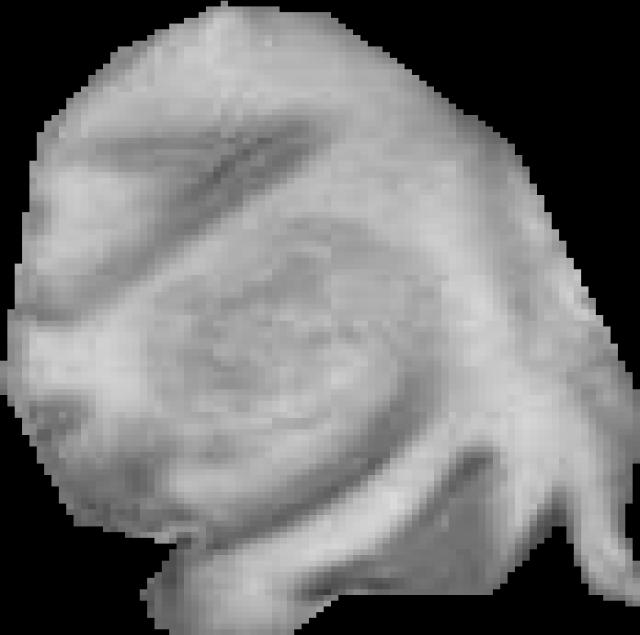tumor_moderate_chance: (0, 1, 640, 635)
